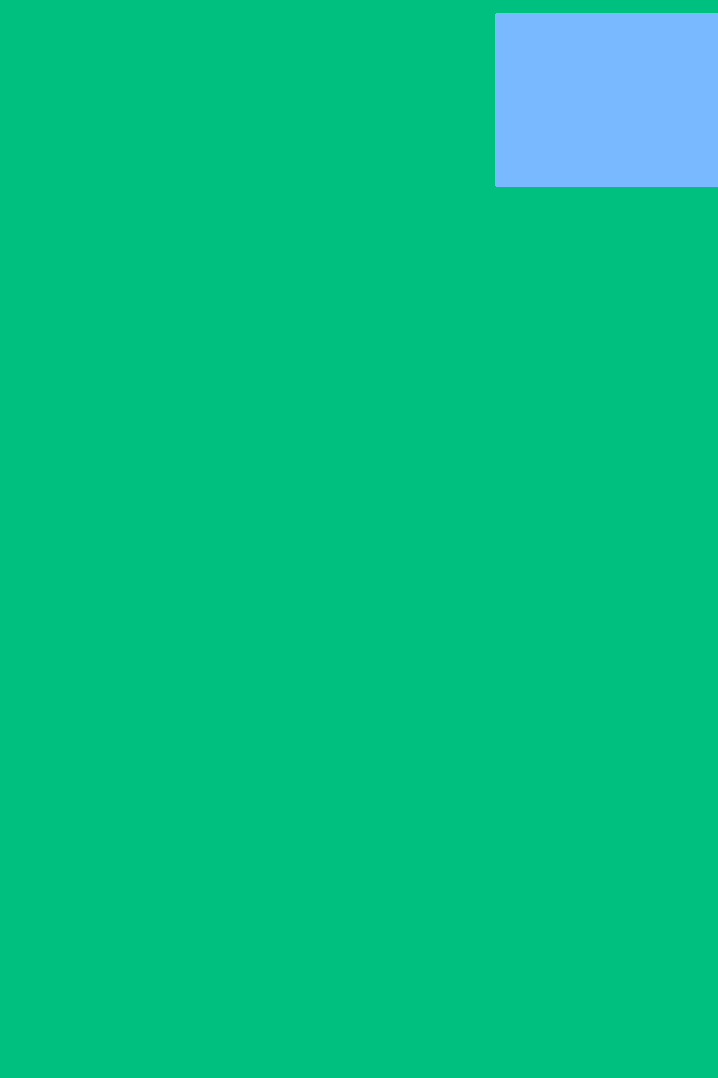Text_area: (496, 14, 718, 185)
